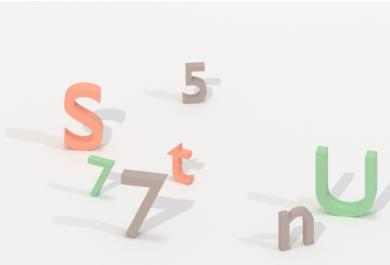5: (179, 59, 211, 110)
7: (119, 163, 170, 244), (83, 149, 118, 201)
S: (59, 77, 108, 154)
U: (312, 139, 382, 220)
n: (273, 202, 318, 256)
t: (164, 138, 200, 188)
